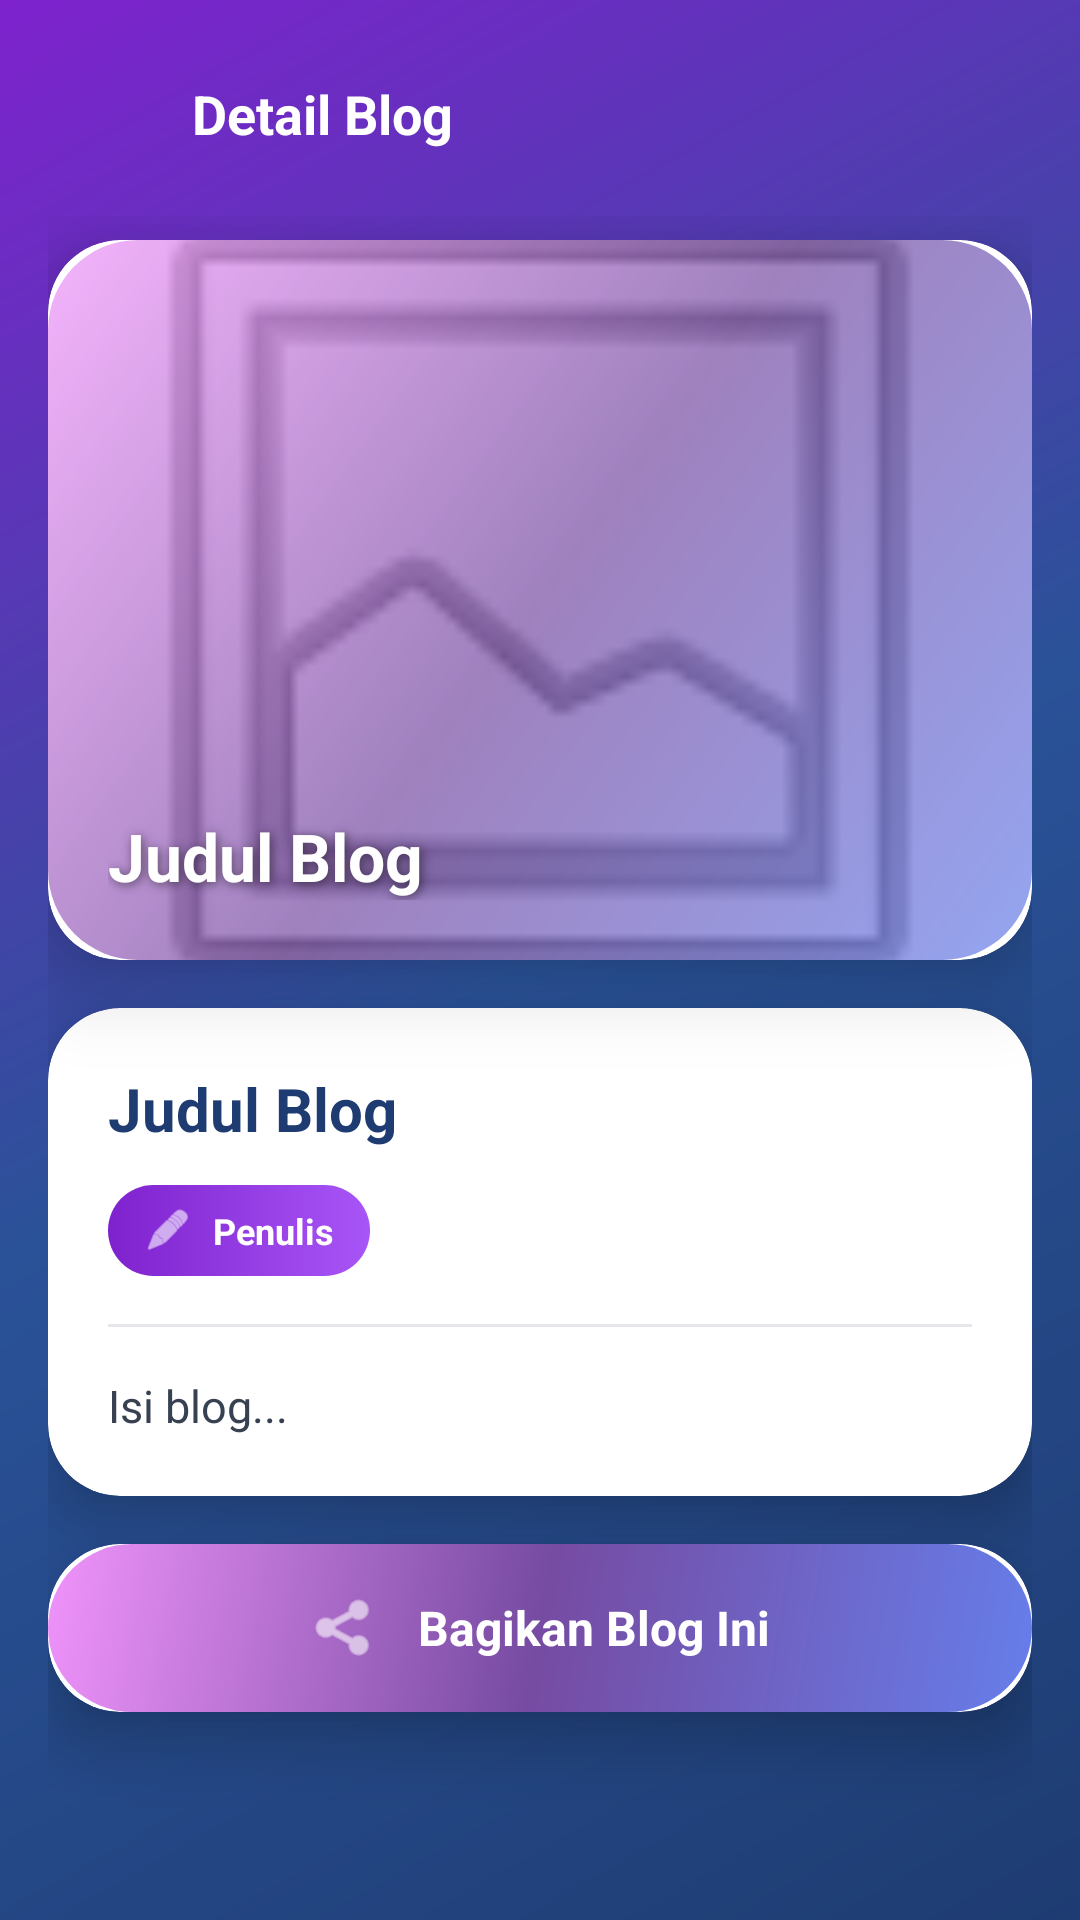

Icons on this 1080 × 1920 Android screen, each with its box as (x1, y1, x2, y2):
Author: (148, 1209, 188, 1250)
Share: (315, 1600, 369, 1656)
